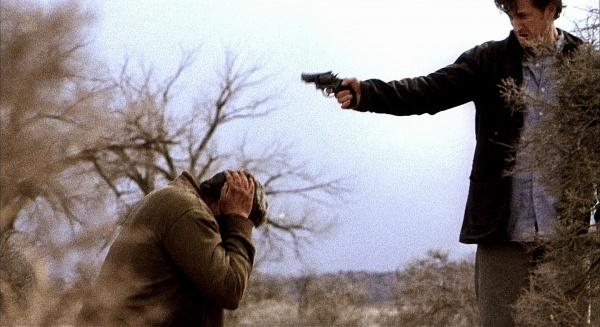Gun: (300, 70, 357, 111)
